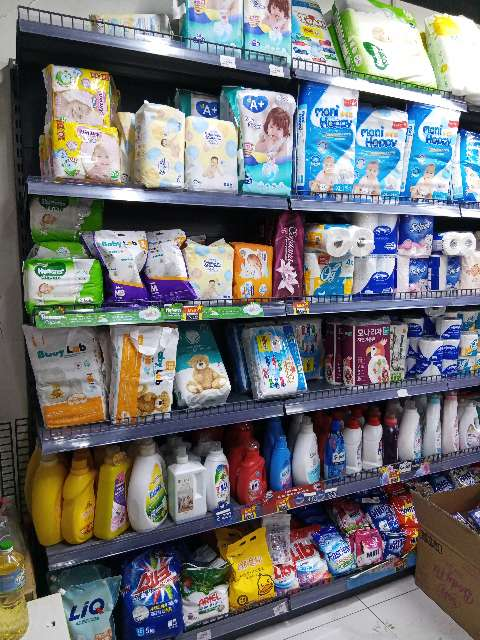A+: (233, 87, 293, 197)
ariel: (180, 562, 226, 620)
ariun: (360, 213, 398, 253), (355, 258, 396, 295), (417, 339, 445, 360), (412, 362, 439, 381), (438, 317, 462, 337), (407, 315, 425, 335), (444, 338, 462, 358), (441, 362, 457, 377)
babylab: (26, 329, 107, 421), (114, 328, 172, 419), (96, 232, 147, 304), (147, 232, 189, 299)
foxy: (235, 241, 274, 301)
huggies: (335, 18, 432, 82), (24, 258, 103, 310), (26, 194, 94, 236)
liby: (291, 527, 324, 582), (271, 557, 294, 591)
liq: (61, 579, 120, 639)
moni happy: (304, 86, 360, 194), (410, 103, 460, 202), (360, 102, 405, 193)
saraana: (276, 216, 306, 296)
selpak: (396, 256, 436, 290), (402, 214, 433, 249)
tody: (297, 18, 336, 58)
ud: (306, 252, 353, 296)
unidry: (244, 327, 301, 396)
white: (394, 495, 418, 529), (401, 531, 419, 558)
